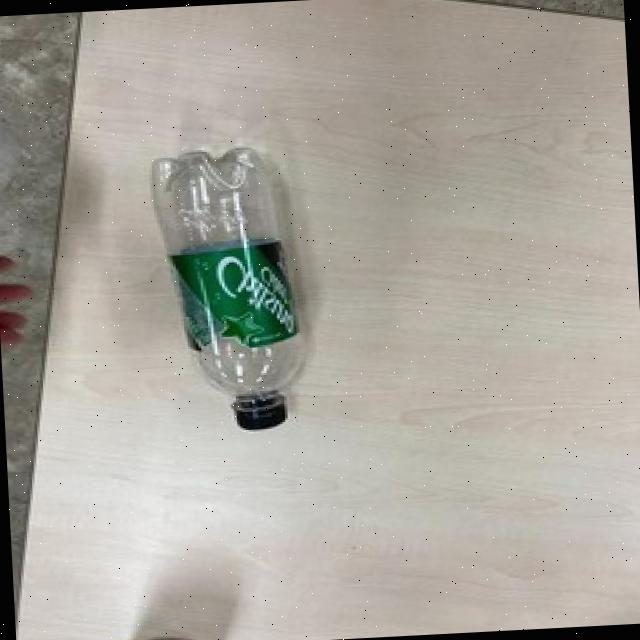bottle: (146, 133, 314, 440)
label: (165, 235, 308, 352)
